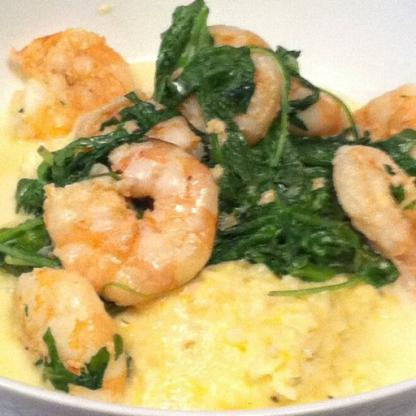shrimp: (40, 139, 225, 302)
